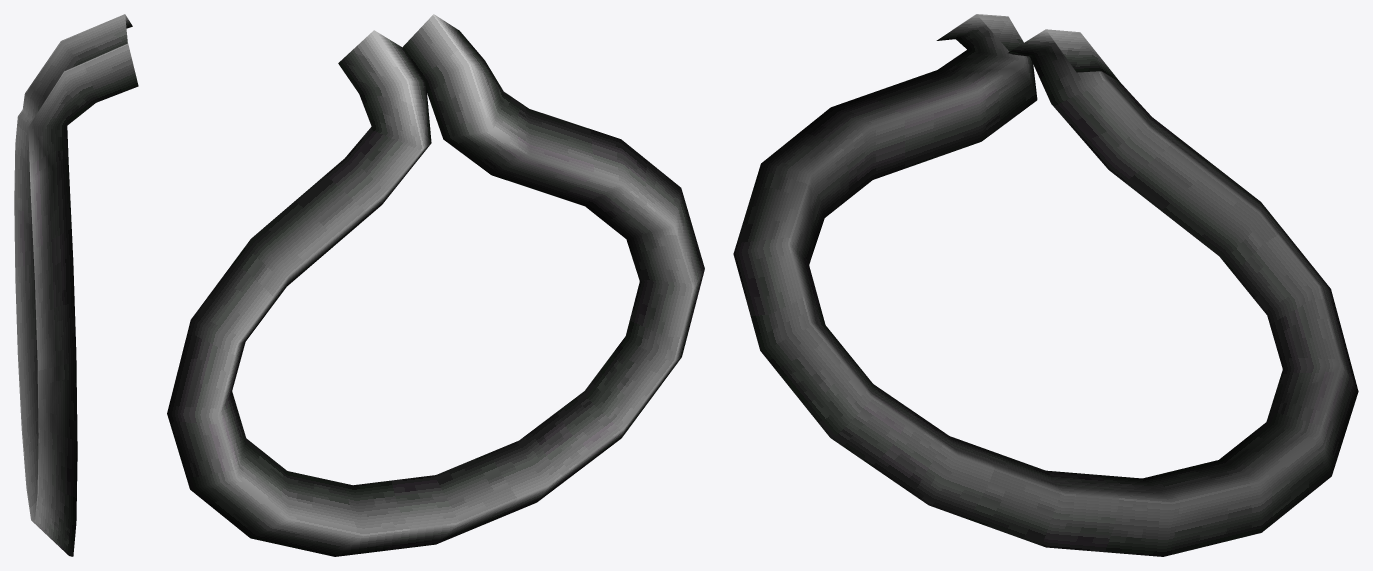
File: OVERHILL_A_01_DOOR_RING.fbx
3 renders of one model, left to right at view 1: azimuth 30°, elevation 25°; view 2: azimuth 150°, elevation 25°; view 3: azimuth 270°, elevation 25°, orthographic. The views are drawn at different scales.
Parts seen in each view (by area): view 1: OVERHILL_A_01_DOOR_RING; view 2: OVERHILL_A_01_DOOR_RING; view 3: OVERHILL_A_01_DOOR_RING.
Boxes of the visible parts, bbox=[...] form: OVERHILL_A_01_DOOR_RING: bbox=[14, 14, 138, 556]; OVERHILL_A_01_DOOR_RING: bbox=[167, 14, 704, 556]; OVERHILL_A_01_DOOR_RING: bbox=[733, 14, 1358, 556].
Bounding box in the file's own units: 2638 × 4671 × 4797.
Materials: 1 (1 with a texture image).
